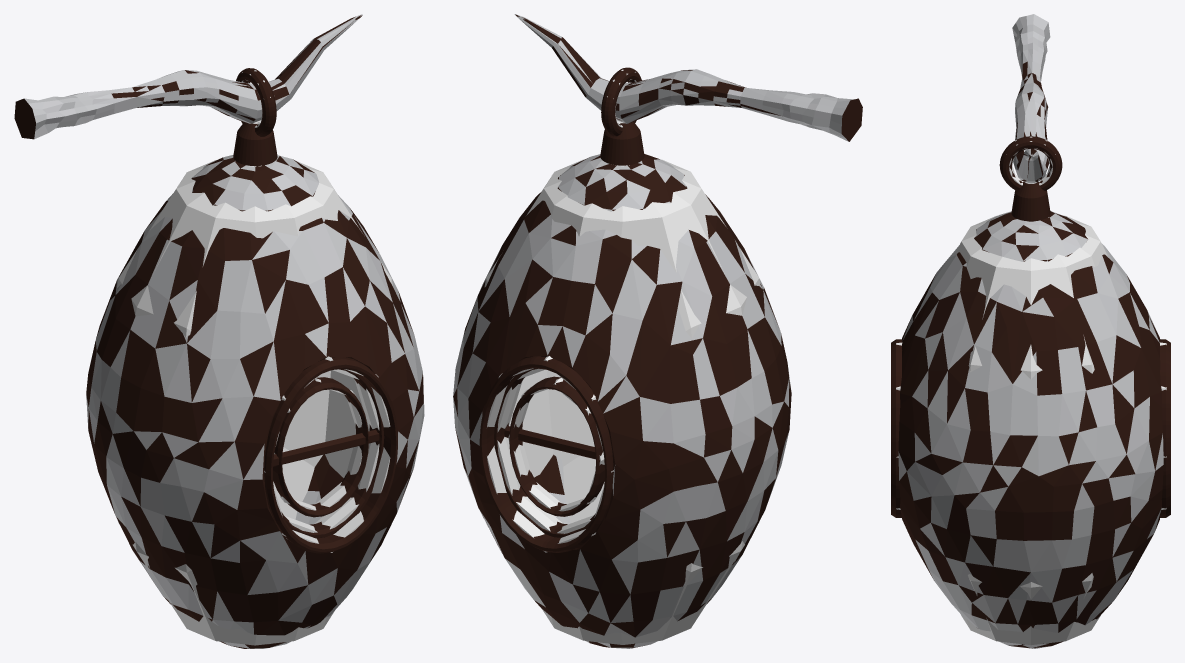
The model's file is TreeHouseColilderTest.fbx.
3 views of the same model, side by side, from view 1: azimuth 30°, elevation 25°; view 2: azimuth 150°, elevation 25°; view 3: azimuth 270°, elevation 25° (orthographic). The views are drawn at different scales.
Parts seen in each view (by area): view 1: TreehouseBody, Branch, Window.002, lowerMidHull.002, leftmidLowerHull, TopLowerHull.006, TreehouseConnceter, BottomUpperHull.010, TreehouseHook, TopLowerHull.011, BottomUpperHull.004, BottomUpperHull.003 (+2 smaller); view 2: TreehouseBody, Branch, Window.003, lowerMidHull.003, rigjhtMidLowerHull, TopLowerHull.011, BottomUpperHull.005, TopLowerHull.010, TreehouseConnceter, TreehouseHook, TopLowerHull.006, BottomUpperHull.008 (+2 smaller); view 3: TreehouseBody, Branch, TreehouseHook, TreehouseConnceter, TopLowerHull.005, TopLowerHull, TopLowerHull.004, BottomUpperHull.009, BottomUpperHull.
Boxes of the visible parts, x1,y1,x2,y2 form: TreehouseBody: (86, 155, 424, 648); Branch: (14, 14, 362, 139); Window.002: (273, 369, 384, 538); lowerMidHull.002: (325, 370, 369, 477); leftmidLowerHull: (283, 370, 330, 467); TopLowerHull.006: (137, 206, 215, 328); TreehouseConnceter: (233, 122, 277, 166); BottomUpperHull.010: (273, 447, 314, 519); TreehouseHook: (236, 68, 276, 136); TopLowerHull.011: (118, 189, 186, 306); BottomUpperHull.004: (187, 570, 256, 645); BottomUpperHull.003: (137, 552, 215, 640); TreehouseBody: (453, 154, 791, 648); Branch: (514, 14, 862, 141); Window.003: (494, 368, 604, 537); lowerMidHull.003: (509, 369, 553, 477); rigjhtMidLowerHull: (546, 370, 594, 466); TopLowerHull.011: (662, 205, 740, 327); BottomUpperHull.005: (563, 446, 604, 523); TopLowerHull.010: (621, 217, 690, 330); TreehouseConnceter: (600, 121, 644, 165); TreehouseHook: (601, 67, 641, 136); TopLowerHull.006: (691, 189, 758, 306); BottomUpperHull.008: (662, 551, 740, 640); TreehouseBody: (891, 211, 1170, 648); Branch: (1012, 14, 1050, 183); TreehouseHook: (999, 136, 1062, 190); TreehouseConnceter: (1011, 182, 1050, 221); TopLowerHull.005: (970, 267, 1030, 371); TopLowerHull: (1031, 267, 1091, 371); TopLowerHull.004: (966, 256, 995, 365); BottomUpperHull.009: (1031, 581, 1091, 645); BottomUpperHull: (971, 581, 1030, 644).
Size of the model in its own units: 2.54 by 3.89 by 1.85.
